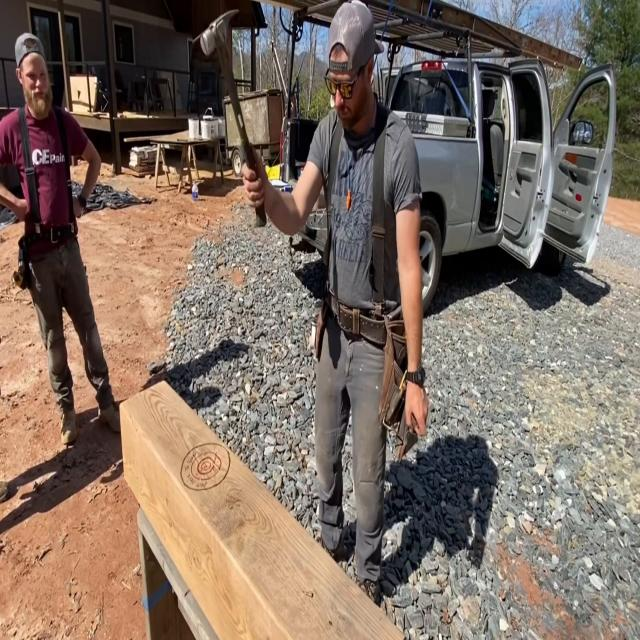hammer: (198, 5, 268, 230)
